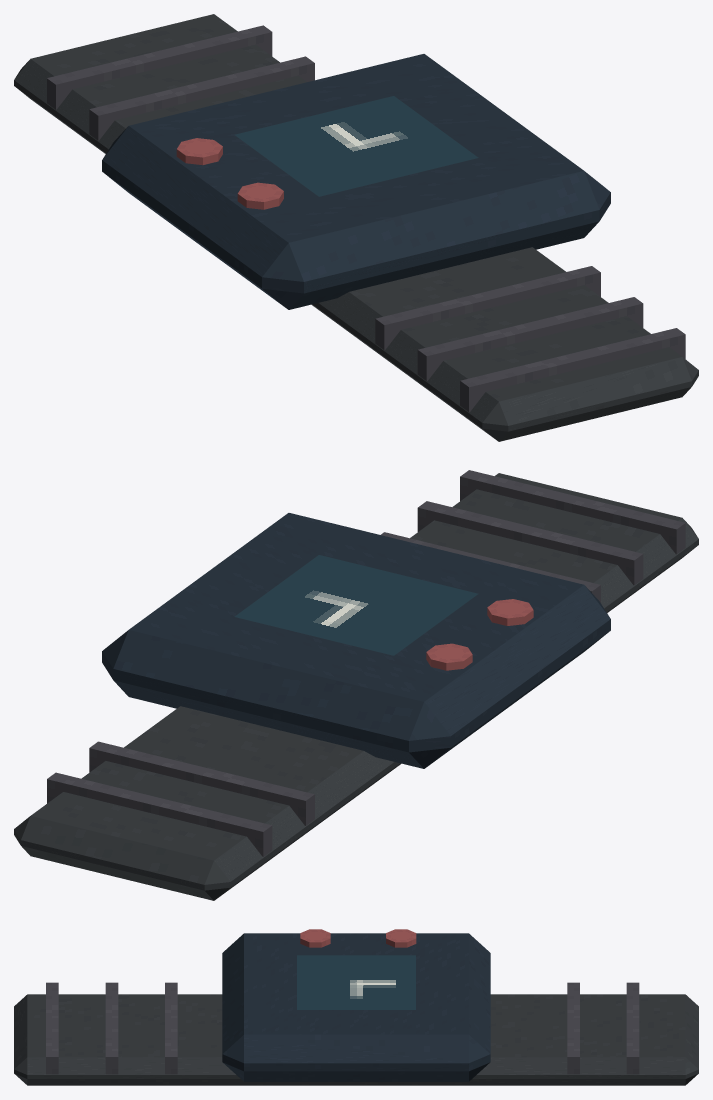
The model's file is game_watch.glb.
3 renders of one model, top to bottom at view 1: azimuth 30°, elevation 25°; view 2: azimuth 150°, elevation 25°; view 3: azimuth 270°, elevation 25°, orthographic. The views are drawn at different scales.
Visible parts, largest first — view 1: block_rectangular screen, block_wrist strap, block_bracelet segment (×5), block_watch face, block_game control (×2); view 2: block_rectangular screen, block_wrist strap, block_bracelet segment (×5), block_watch face, block_game control (×2); view 3: block_wrist strap, block_rectangular screen, block_watch face, block_bracelet segment (×5), block_game control (×2).
Part boxes in pixels (x1,y1,x2,y2): block_rectangular screen: [102, 54, 610, 309]; block_wrist strap: [14, 14, 698, 441]; block_bracelet segment (×5): [47, 25, 685, 412]; block_watch face: [234, 96, 478, 196]; block_game control (×2): [176, 138, 283, 209]; block_rectangular screen: [102, 513, 610, 768]; block_wrist strap: [14, 473, 698, 900]; block_bracelet segment (×5): [47, 470, 685, 856]; block_watch face: [234, 555, 478, 655]; block_game control (×2): [426, 599, 533, 670]; block_wrist strap: [14, 994, 698, 1085]; block_rectangular screen: [222, 933, 490, 1081]; block_watch face: [297, 955, 415, 1009]; block_bracelet segment (×5): [46, 982, 639, 1074]; block_game control (×2): [300, 929, 416, 947].
Bounding box in the file's own units: 0.0747 × 0.022 × 0.1808.
1 material, 1 textured.
